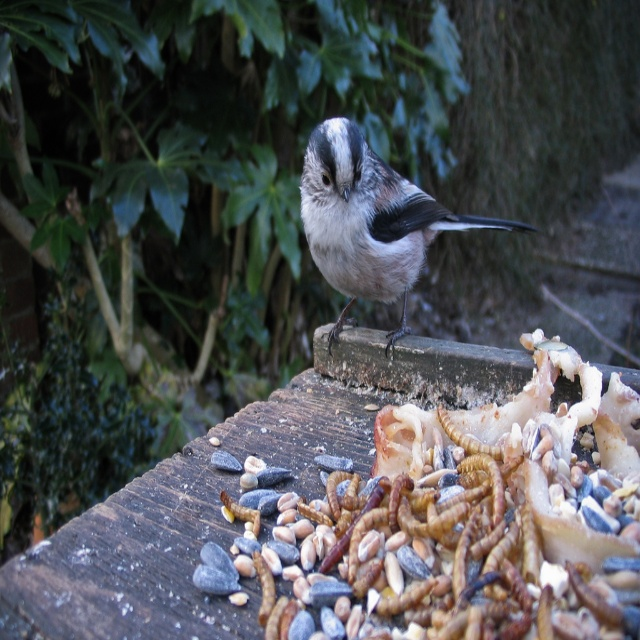Sparrow: (300, 116, 540, 359)
